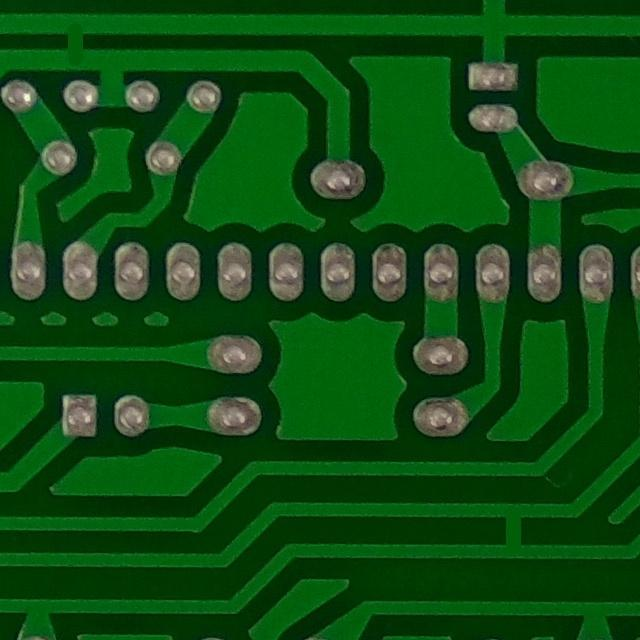short: (478, 497, 542, 566), (46, 0, 102, 72)
